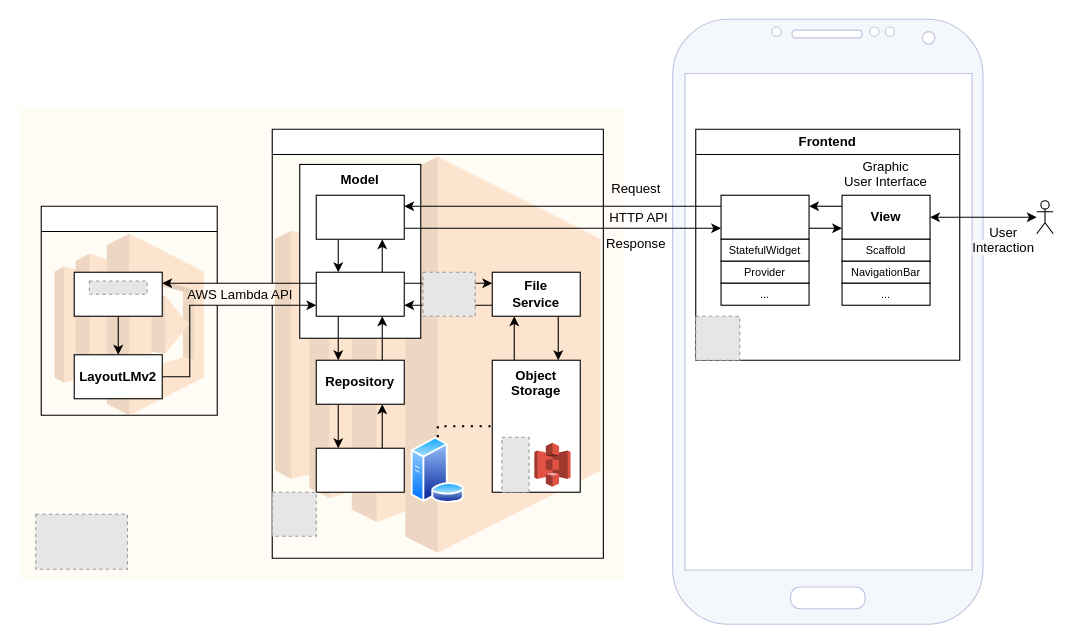
Some shapes in this 1073 by 644 pixel diagram are drawn without their labels. Grey dashed boxes stand in for pictures. The box of each missing label's shape, as (x1, y1, x2, y2) in pixels:
Backend: (271, 128, 603, 558)
Controller: (315, 194, 404, 239)
Entity: (315, 447, 404, 492)
ML: (40, 205, 217, 415)
OCR: (73, 271, 162, 316)
Service: (315, 271, 404, 316)
View Model: (720, 194, 809, 239)
